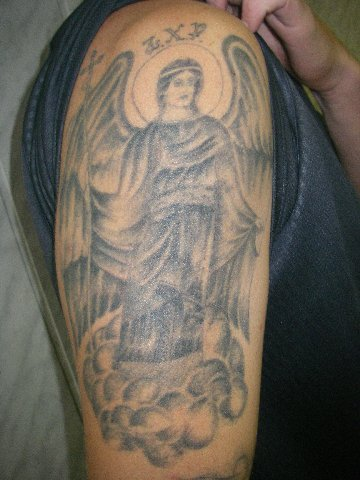tatu1_angel: (79, 47, 263, 365)
